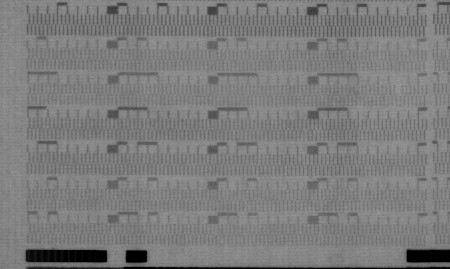Broken hole: (393, 79, 405, 96)
